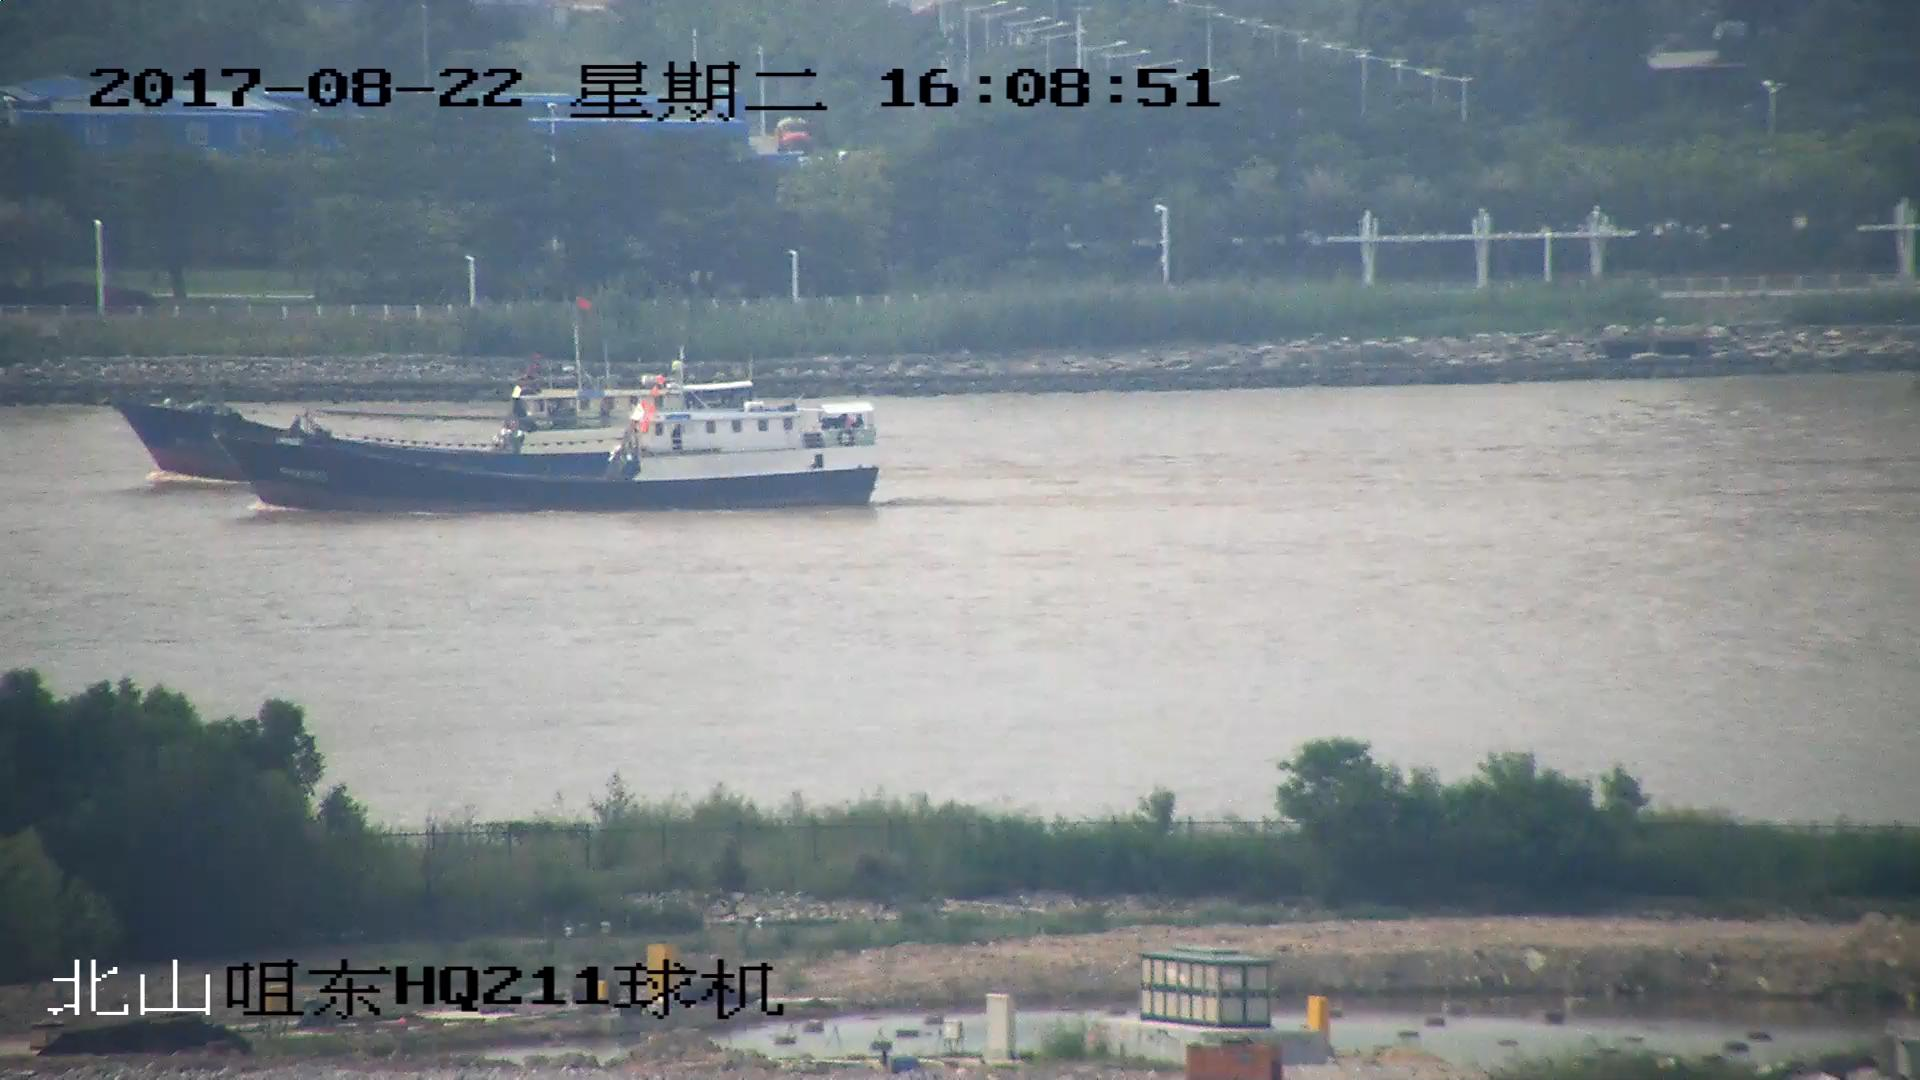fishing boat: (121, 307, 748, 482), (218, 384, 872, 510)
